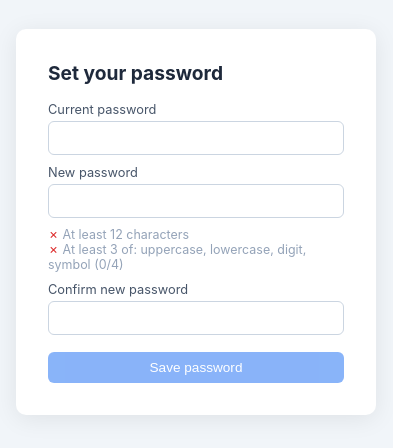
Test: SetPasswordView › disables submit until policy + confirm satisfied
Expected: the button with test id "sp-submit" is disabled, [48,352,344,384]
In the password field labelled "Current password": (196, 138) [48,121,344,155], type "OldPass1234"
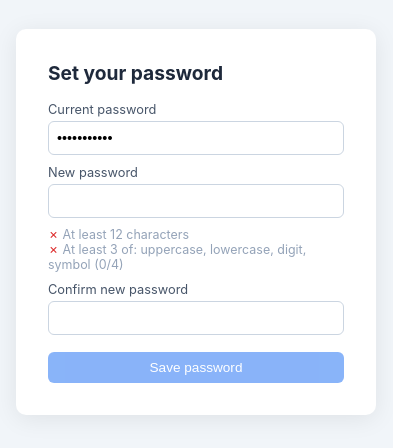
In the password field labelled "New password": (196, 201) [48,184,344,218], type "weak"
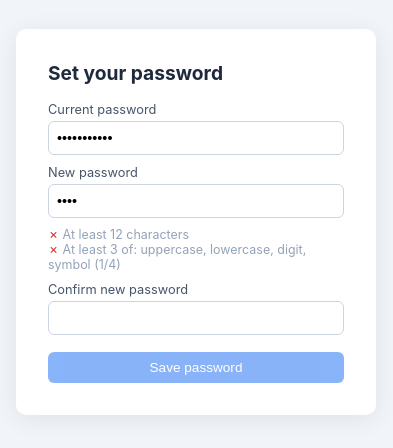
In the password field labelled "Confirm new password": (196, 318) [48,301,344,335], type "weak"
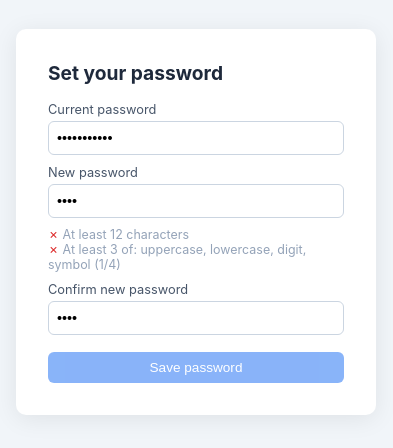
Expected: the button with test id "sp-submit" is disabled, [48,352,344,384]
In the password field labelled "New password": (196, 201) [48,184,344,218], type "NewStrongPass9"
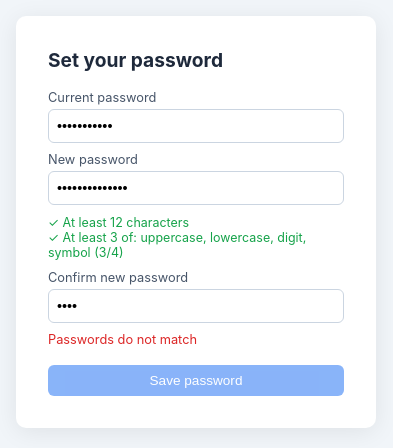
In the password field labelled "Confirm new password": (196, 306) [48,289,344,323], type "NewStrongPass9"
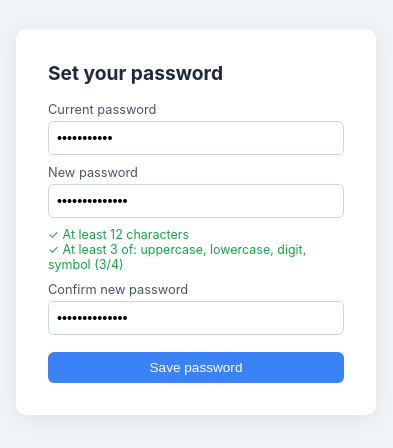
Expected: the button with test id "sp-submit" is enabled, [48,352,344,384]
